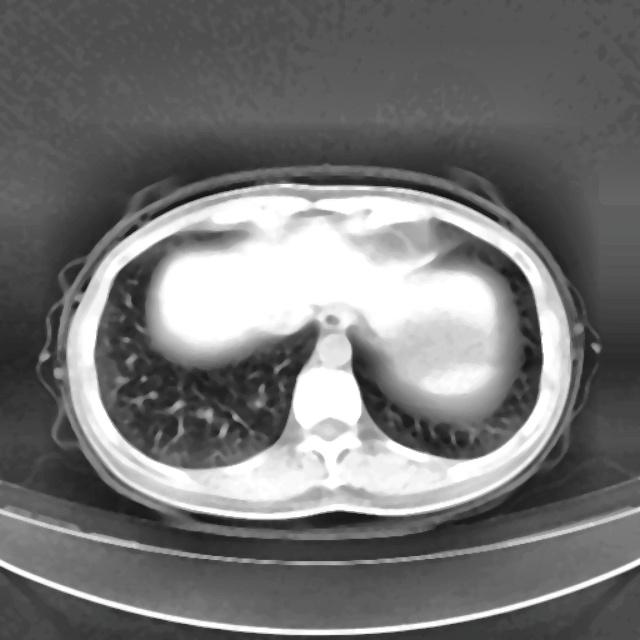covid: (38, 163, 601, 531)
